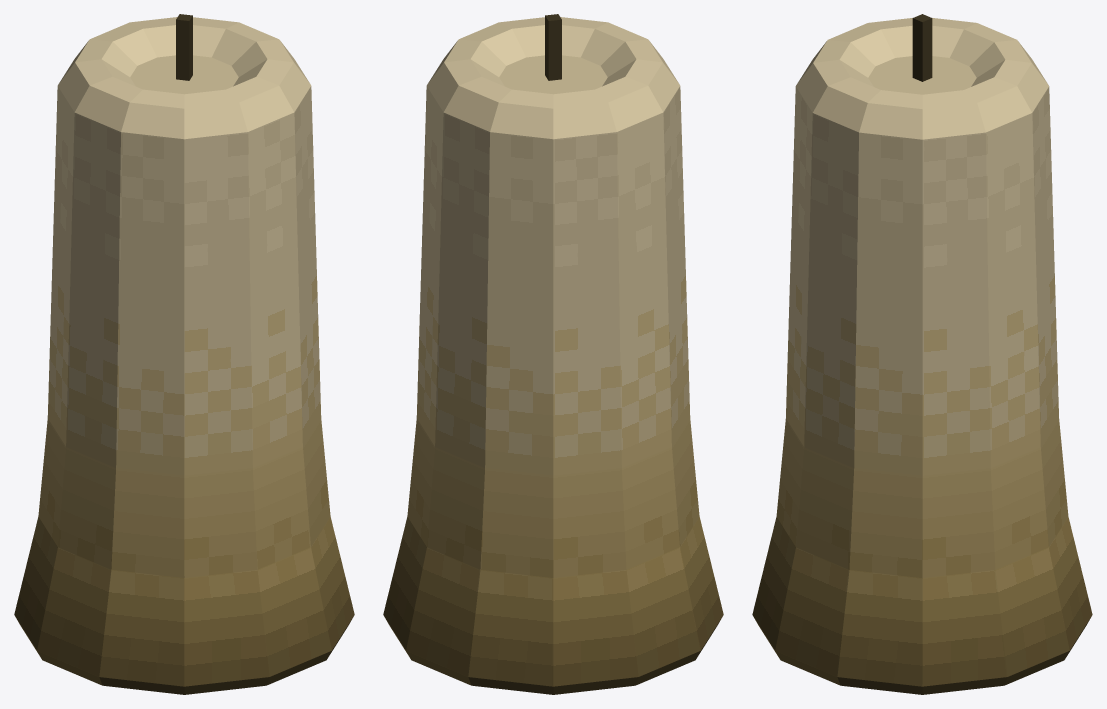
Rendered from vela_01.fbx.
3 renders of one model, left to right at view 1: azimuth 30°, elevation 25°; view 2: azimuth 150°, elevation 25°; view 3: azimuth 270°, elevation 25°, orthographic.
Parts seen in each view (by area): view 1: Vela_01; view 2: Vela_01; view 3: Vela_01.
Part boxes in pixels (x1,y1,x2,y2): Vela_01: (14, 14, 354, 694); Vela_01: (383, 14, 723, 694); Vela_01: (752, 14, 1092, 694).
Size of the model in its own units: 108 by 213 by 108.
